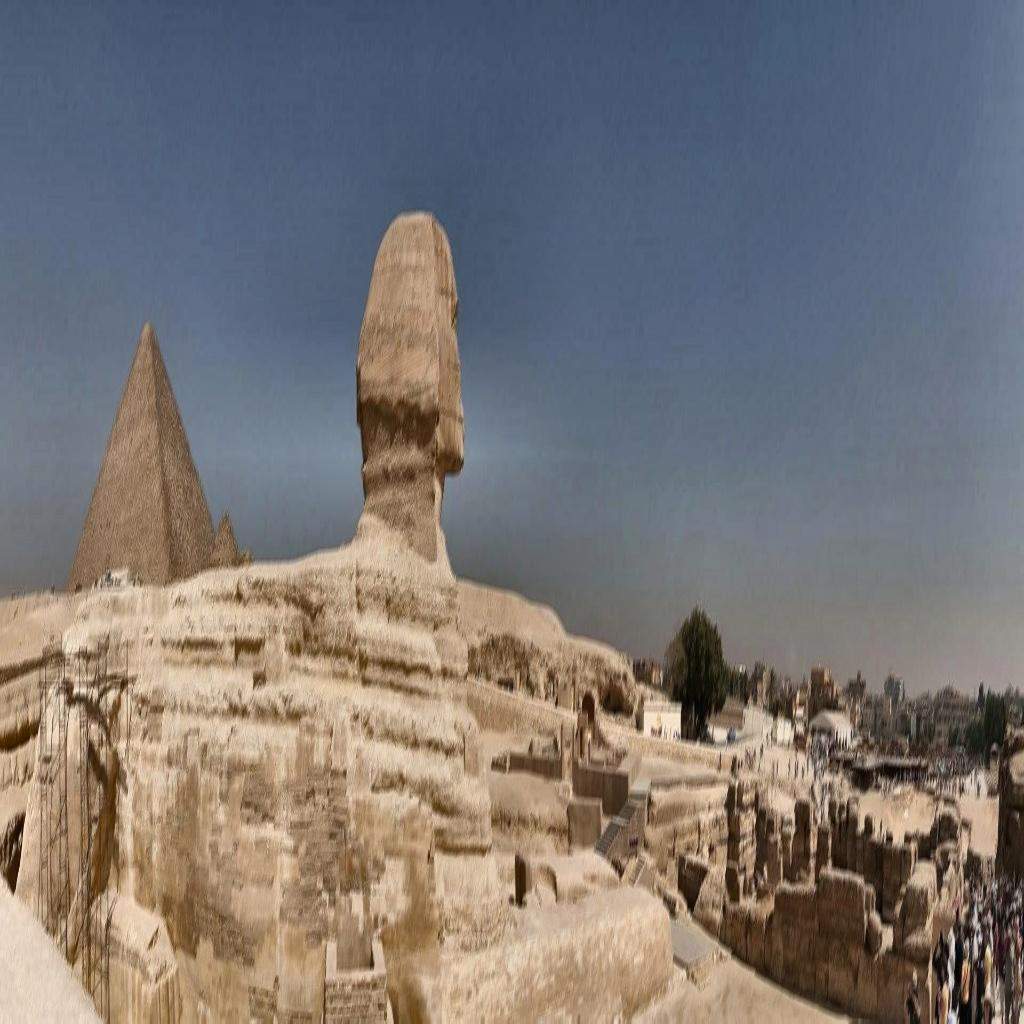Sphinx: (354, 206, 465, 554)
